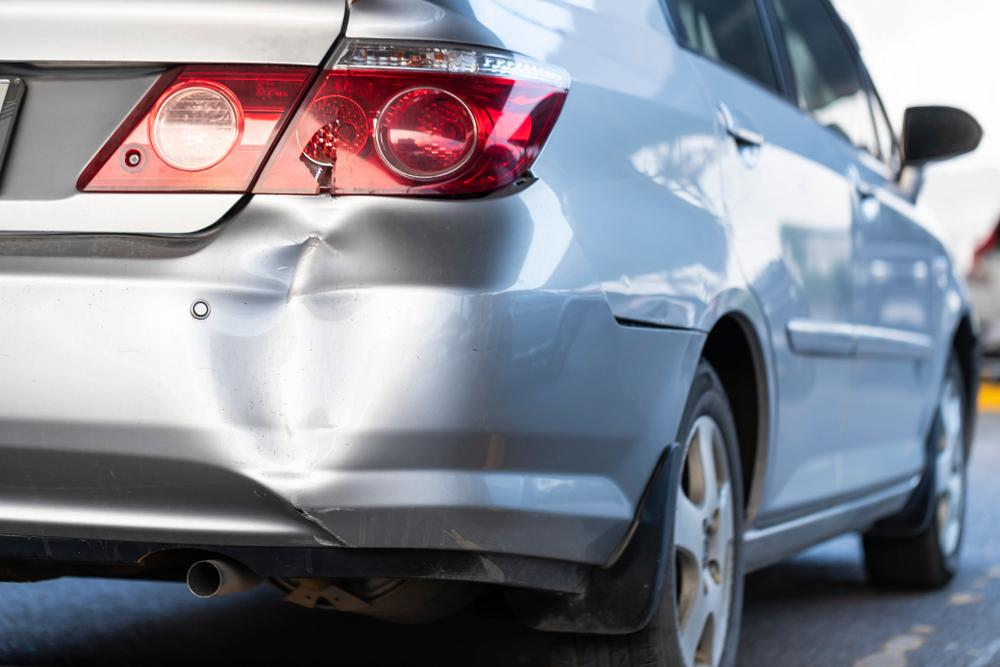dent: (201, 194, 461, 496)
lamp broken: (247, 38, 571, 197)
